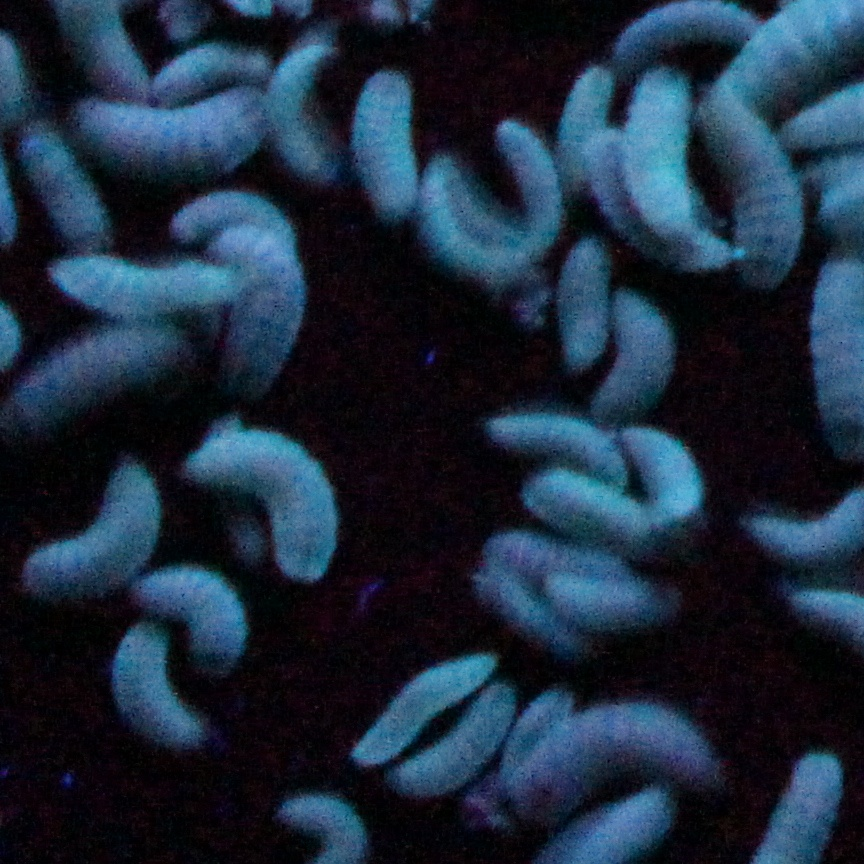larve: (189, 436, 333, 575), (17, 460, 160, 587), (700, 92, 794, 285), (585, 140, 728, 265), (518, 704, 721, 792), (348, 652, 494, 753), (81, 100, 266, 175), (208, 222, 303, 360), (428, 159, 525, 291), (386, 683, 512, 783), (626, 67, 700, 234), (522, 469, 659, 545), (485, 408, 626, 481), (590, 290, 672, 413), (54, 259, 240, 312), (536, 794, 681, 860), (14, 333, 182, 389), (21, 133, 103, 245), (156, 566, 243, 668), (356, 71, 418, 214), (501, 114, 559, 266), (620, 423, 703, 522), (482, 569, 577, 648), (270, 795, 380, 863), (118, 625, 177, 751), (275, 38, 327, 176), (778, 748, 844, 856), (491, 536, 634, 580), (557, 68, 609, 189), (171, 199, 298, 245), (152, 46, 265, 97), (563, 236, 605, 368), (552, 581, 680, 623), (500, 696, 567, 767)
